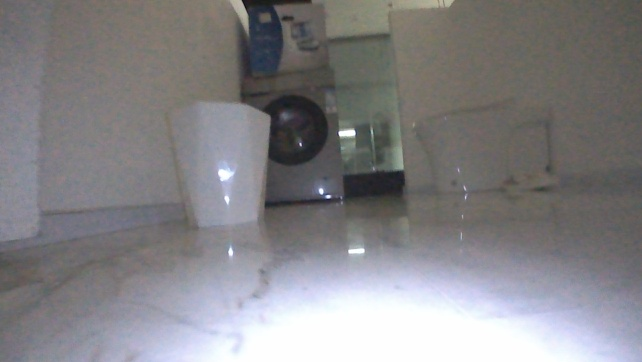toilet: (408, 93, 521, 197)
trash_can: (237, 65, 345, 204), (161, 98, 273, 230)
